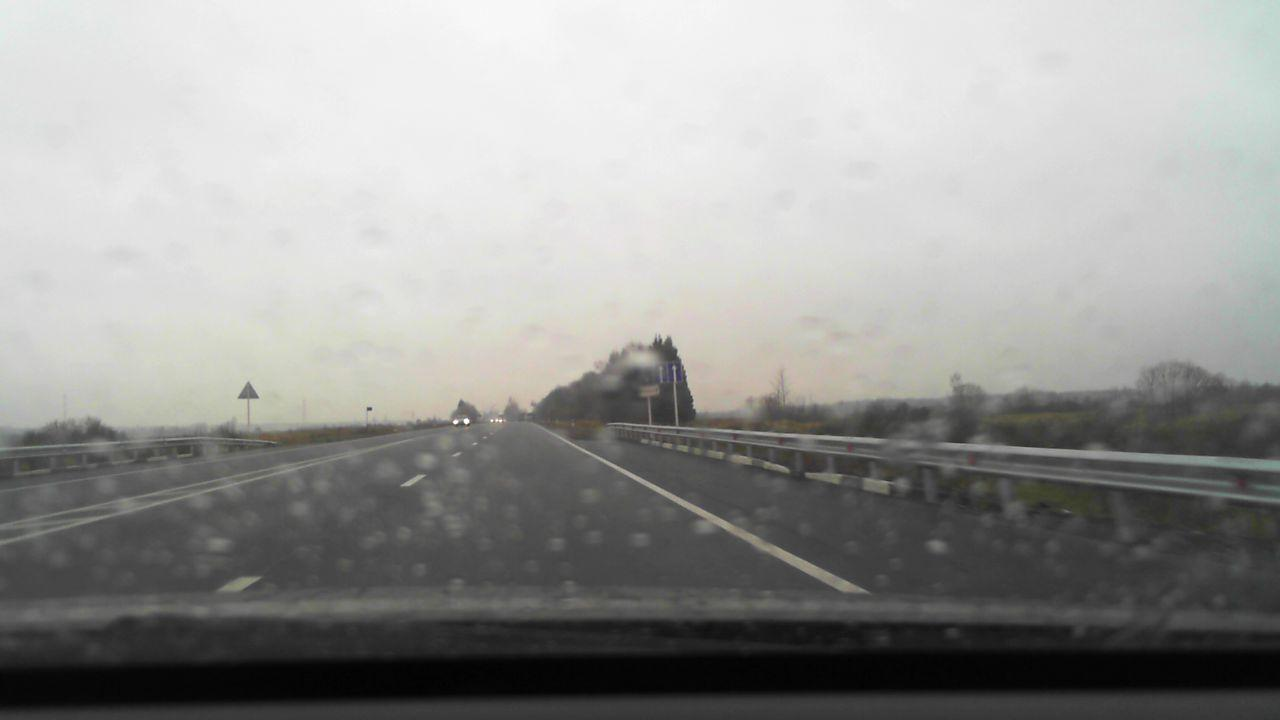5_15_7: (639, 361, 683, 383)
8_2_1: (639, 387, 660, 397)
